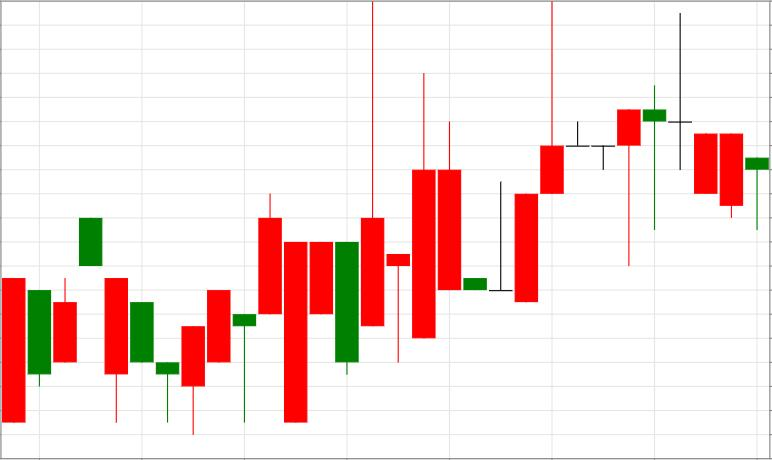hanging_man_fall: (412, 2, 640, 338)
